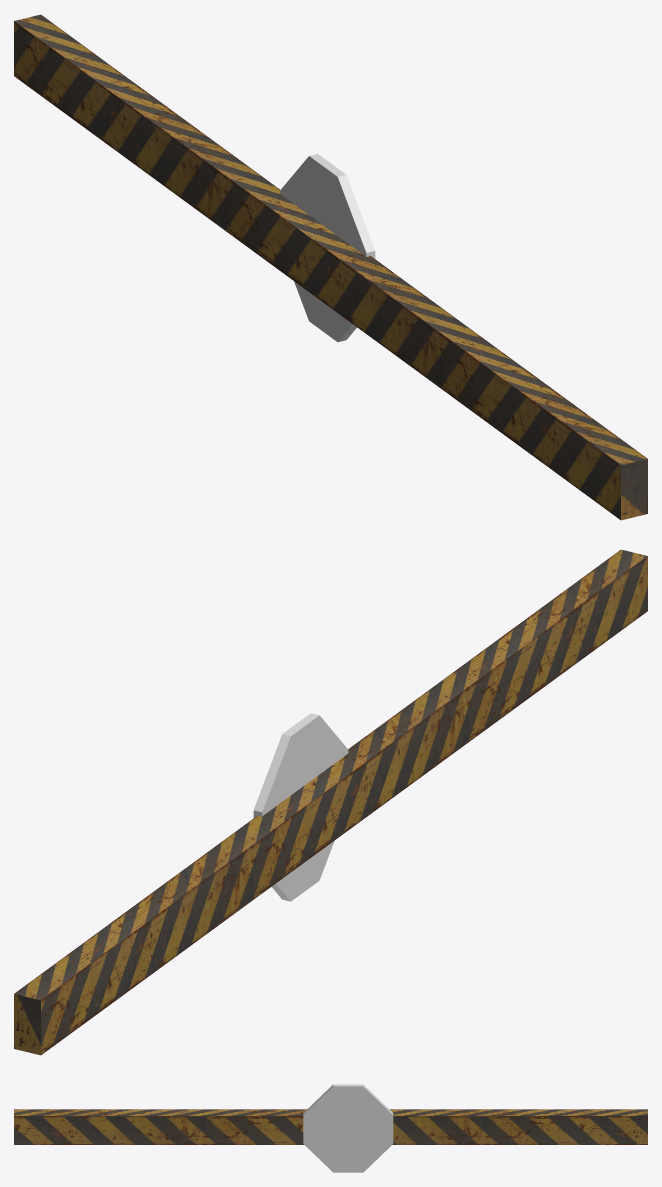
File: barrira_cancela.dae
3 renders of one model, top to bottom at view 1: azimuth 30°, elevation 25°; view 2: azimuth 150°, elevation 25°; view 3: azimuth 270°, elevation 25°, orthographic. The views are drawn at different scales.
Parts seen in each view (by area): view 1: barra, Cube.006; view 2: barra, Cube.006; view 3: barra, Cube.006.
Boxes of the visible parts, <box> form: barra: <box>14,14,647,520</box>; Cube.006: <box>280,154,375,341</box>; barra: <box>14,549,647,1055</box>; Cube.006: <box>253,713,348,901</box>; barra: <box>14,1109,647,1144</box>; Cube.006: <box>303,1084,393,1172</box>.
Bounding box in the file's own units: 0.266 × 8.94 × 1.34.
